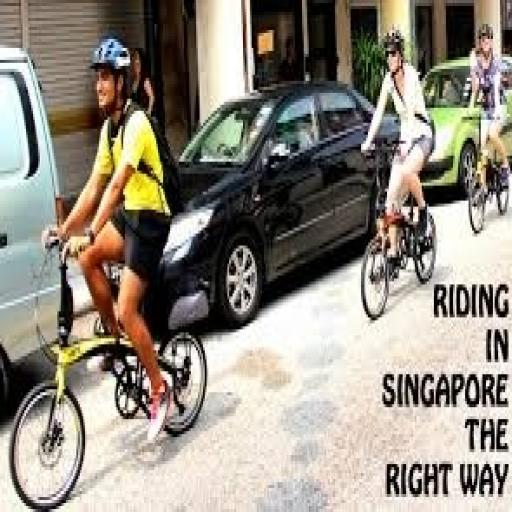cycling: (48, 33, 180, 446), (358, 27, 438, 278), (467, 21, 510, 201)
